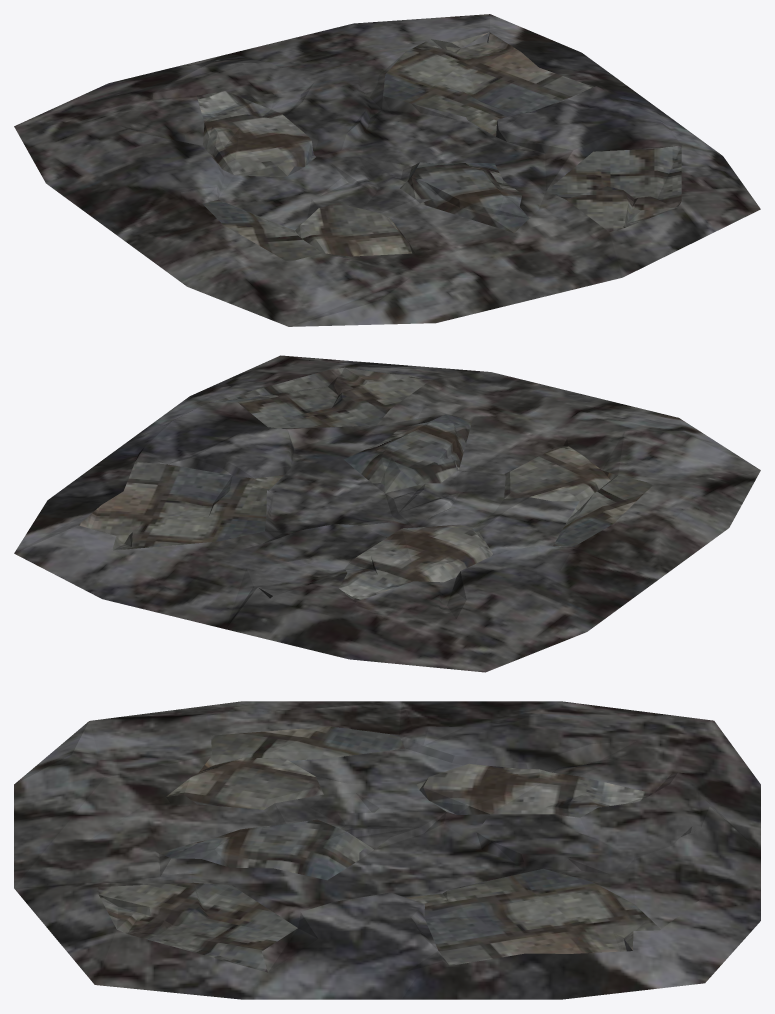
The model's file is Ruins 3.fbx.
The picture shows the model from 3 angles, top to bottom: view 1: azimuth 30°, elevation 25°; view 2: azimuth 150°, elevation 25°; view 3: azimuth 270°, elevation 25°; orthographic projection. The views are drawn at different scales.
Parts seen in each view (by area): view 1: Ruins 3; view 2: Ruins 3; view 3: Ruins 3.
Part boxes in pixels (<box>): Ruins 3: <box>14,14,760,326</box>; Ruins 3: <box>14,355,760,672</box>; Ruins 3: <box>14,701,760,999</box>.
Bounding box in the file's own units: 1857 × 73.58 × 1967.
Materials: 1 (1 with a texture image).
